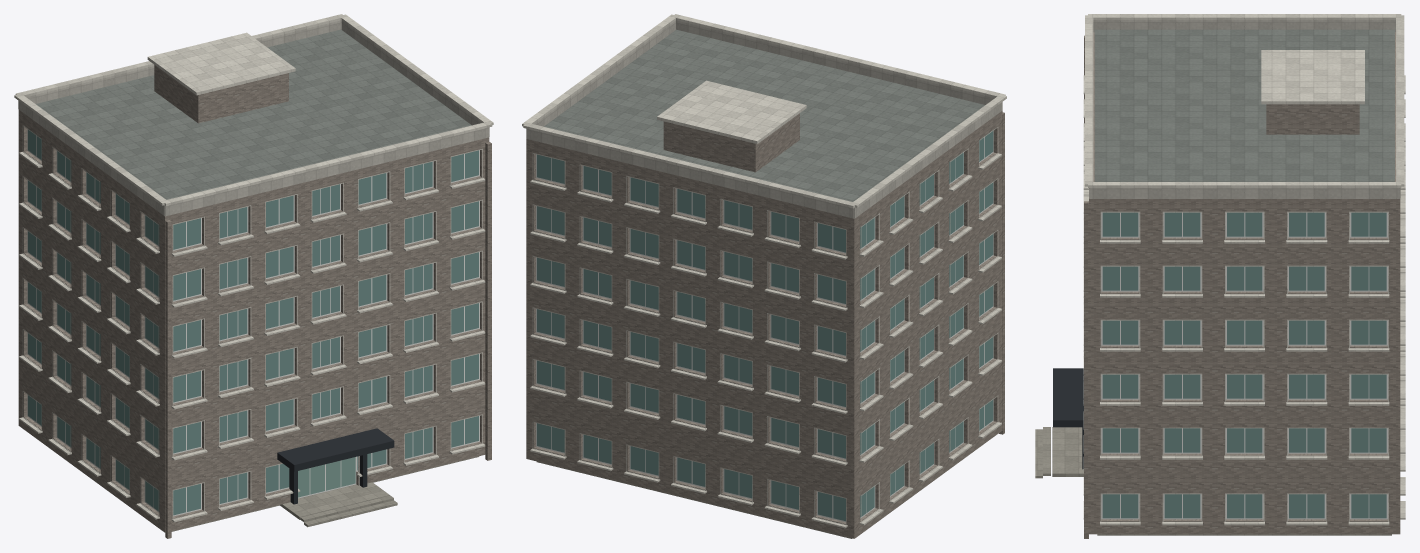
3 renders of one model, left to right at view 1: azimuth 30°, elevation 25°; view 2: azimuth 150°, elevation 25°; view 3: azimuth 270°, elevation 25°, orthographic. The views are drawn at different scales.
Parts seen in each view (by area): view 1: freedom__brick, freedom__glass, freedom__roof, freedom__trim, freedom__stone, freedom__frame, freedom__steel, freedom__threshold-main, freedom__entryglass, freedom__stair-main; view 2: freedom__brick, freedom__glass, freedom__roof, freedom__trim, freedom__stone, freedom__frame; view 3: freedom__brick, freedom__roof, freedom__glass, freedom__trim, freedom__stone, freedom__frame, freedom__steel, freedom__threshold-main, freedom__stair-main, freedom__plinth.
Part boxes in pixels (x1=…): freedom__brick: x1=18, y1=65, x2=491, y2=538; freedom__glass: x1=28, y1=129, x2=478, y2=515; freedom__roof: x1=36, y1=29, x2=471, y2=199; freedom__trim: x1=14, y1=14, x2=493, y2=522; freedom__stone: x1=18, y1=20, x2=489, y2=215; freedom__frame: x1=27, y1=129, x2=479, y2=516; freedom__steel: x1=277, y1=428, x2=394, y2=504; freedom__threshold-main: x1=279, y1=482, x2=389, y2=519; freedom__entryglass: x1=298, y1=457, x2=355, y2=497; freedom__stair-main: x1=300, y1=495, x2=397, y2=527; freedom__brick: x1=526, y1=111, x2=1004, y2=538; freedom__glass: x1=537, y1=130, x2=993, y2=521; freedom__roof: x1=544, y1=29, x2=985, y2=201; freedom__trim: x1=522, y1=14, x2=1006, y2=528; freedom__stone: x1=526, y1=20, x2=1002, y2=218; freedom__frame: x1=536, y1=131, x2=993, y2=522; freedom__brick: x1=1084, y1=32, x2=1400, y2=538; freedom__roof: x1=1094, y1=29, x2=1394, y2=181; freedom__glass: x1=1102, y1=212, x2=1386, y2=518; freedom__trim: x1=1083, y1=14, x2=1405, y2=525; freedom__stone: x1=1089, y1=20, x2=1400, y2=198; freedom__frame: x1=1101, y1=212, x2=1387, y2=519; freedom__steel: x1=1053, y1=368, x2=1083, y2=469; freedom__threshold-main: x1=1052, y1=427, x2=1083, y2=476; freedom__stair-main: x1=1035, y1=427, x2=1050, y2=478; freedom__plinth: x1=1097, y1=534, x2=1391, y2=535.
Size of the model in its own units: 23.64 by 24.25 by 21.45.
9 materials, 5 textured.
